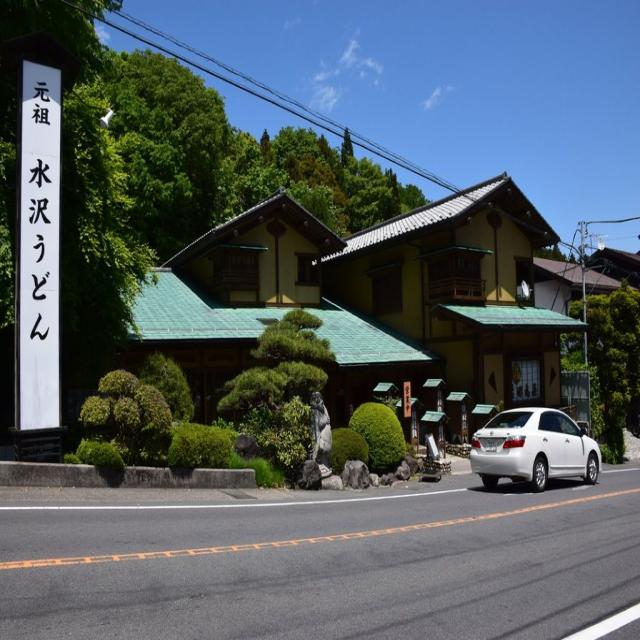car: (462, 409, 605, 491)
